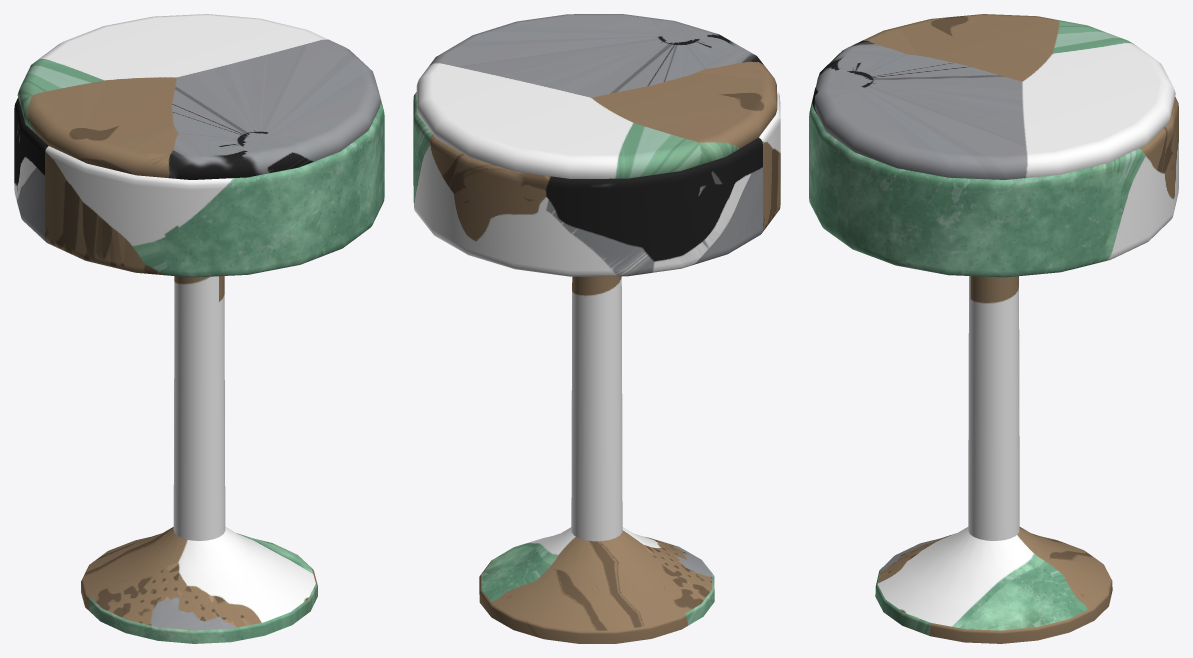
File: stool.fbx
The picture shows the model from 3 angles, left to right: view 1: azimuth 30°, elevation 25°; view 2: azimuth 150°, elevation 25°; view 3: azimuth 270°, elevation 25°; orthographic projection.
Visible parts, largest first — view 1: defaultMaterial, defaultMaterial.001; view 2: defaultMaterial, defaultMaterial.001; view 3: defaultMaterial, defaultMaterial.001.
Part boxes in pixels (<box>): defaultMaterial: <box>14,91,384,643</box>; defaultMaterial.001: <box>17,14,381,179</box>; defaultMaterial: <box>413,91,780,643</box>; defaultMaterial.001: <box>416,14,777,178</box>; defaultMaterial: <box>809,87,1178,643</box>; defaultMaterial.001: <box>812,14,1175,179</box>.
Size of the model in its own units: 3984 by 6037 by 3984.
